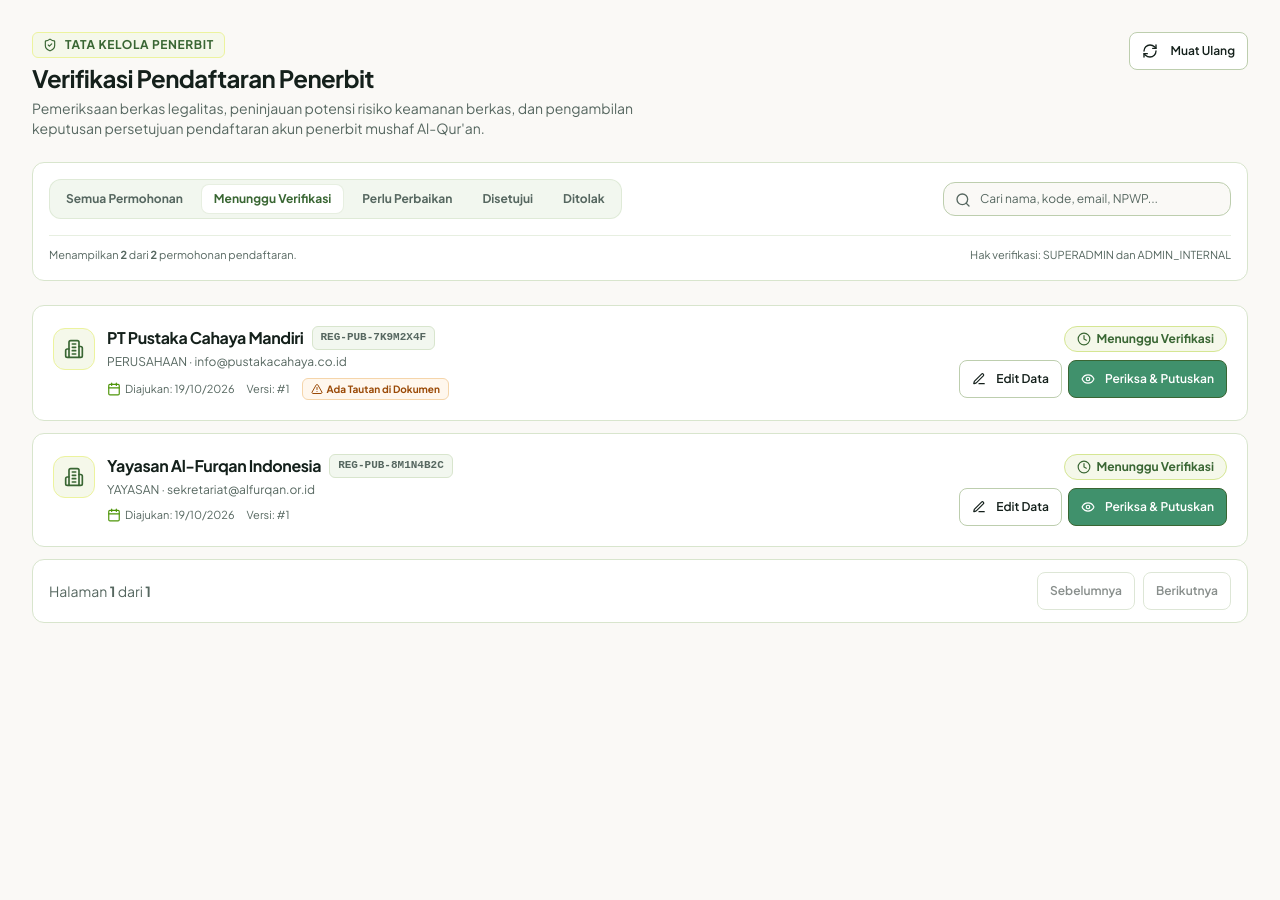
PublisherVerificationPage (T-S03 Verifikasi Penerbit Admin) › handles VERSION_CONFLICT (409) gracefully without throwing
What coordinates should you click on to do the following:
click the button "Periksa & Putuskan" in the row of "Ada Tautan di Dokumen"
I would click on:
 (1147, 379)
Its box is [1068,360,1227,398].
(page scrolled)
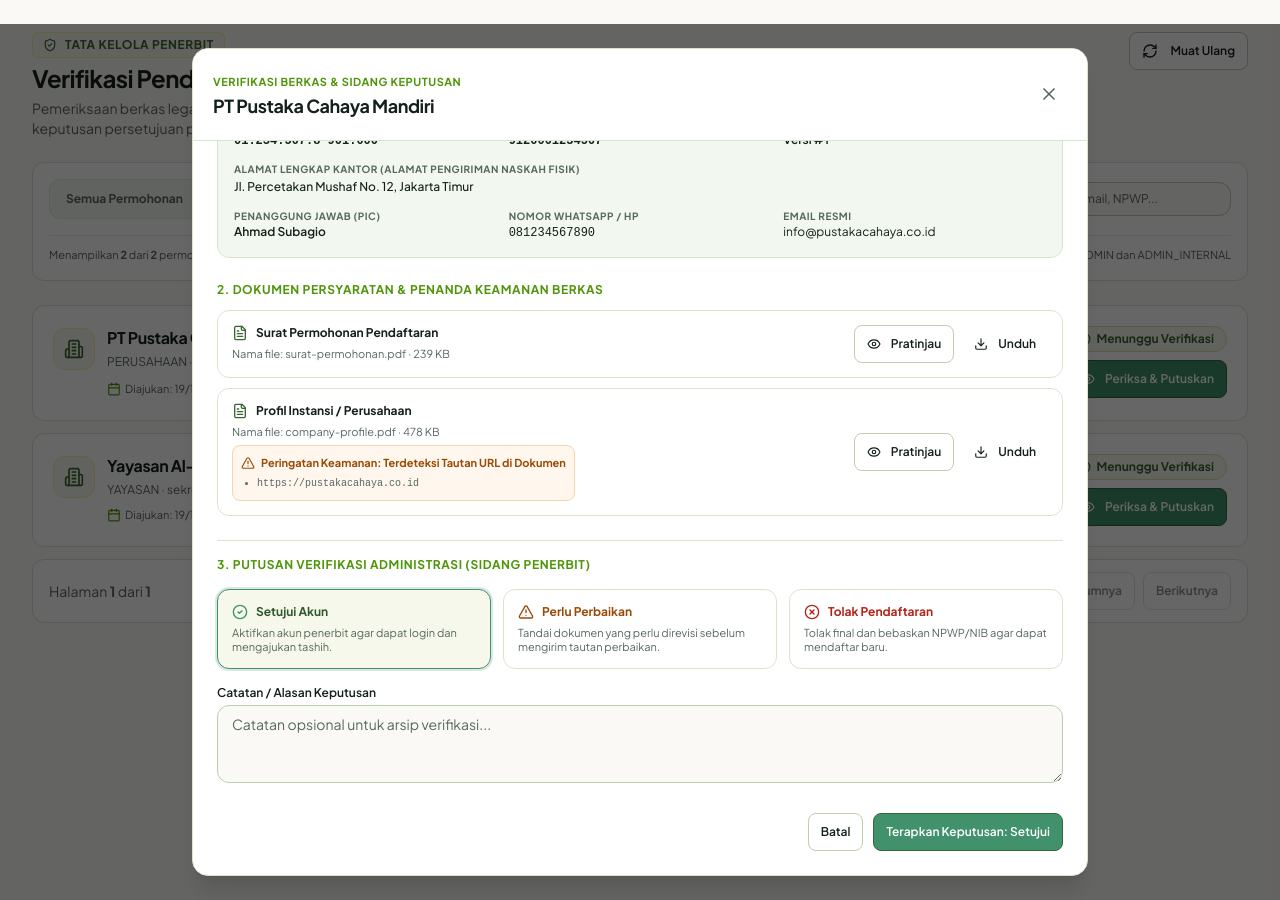
expect the button "Terapkan Keputusan: Setujui" is shown: met
What coordinates should you click on to do the following:
click the button "Terapkan Keputusan: Setujui"
I would click on:
 (968, 832)
Its box is [873,812,1063,850].
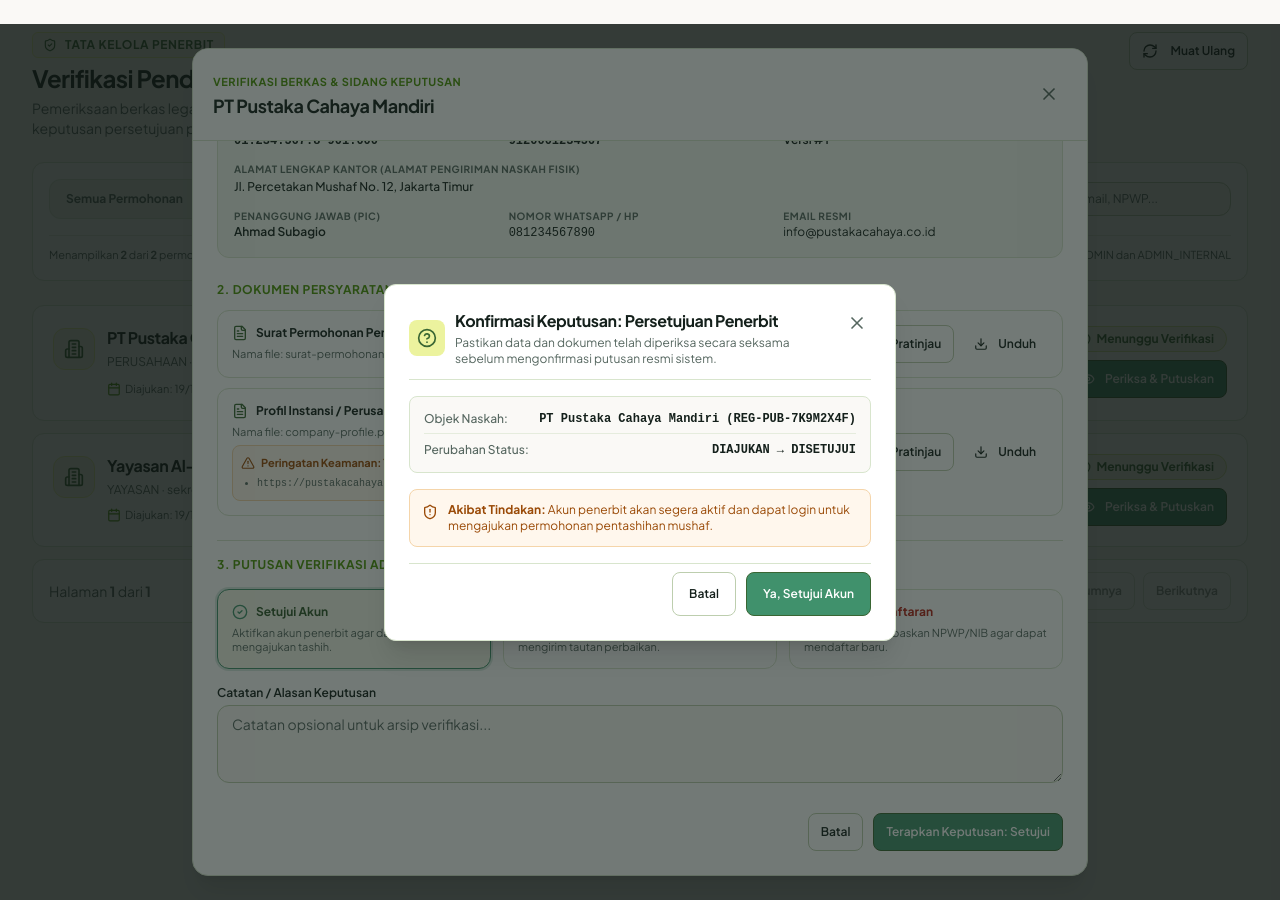
expect the button "Ya, Setujui Akun" is shown: met
What coordinates should you click on to do the following:
click the button "Ya, Setujui Akun"
I would click on:
 (808, 594)
Its box is [746,572,871,616].
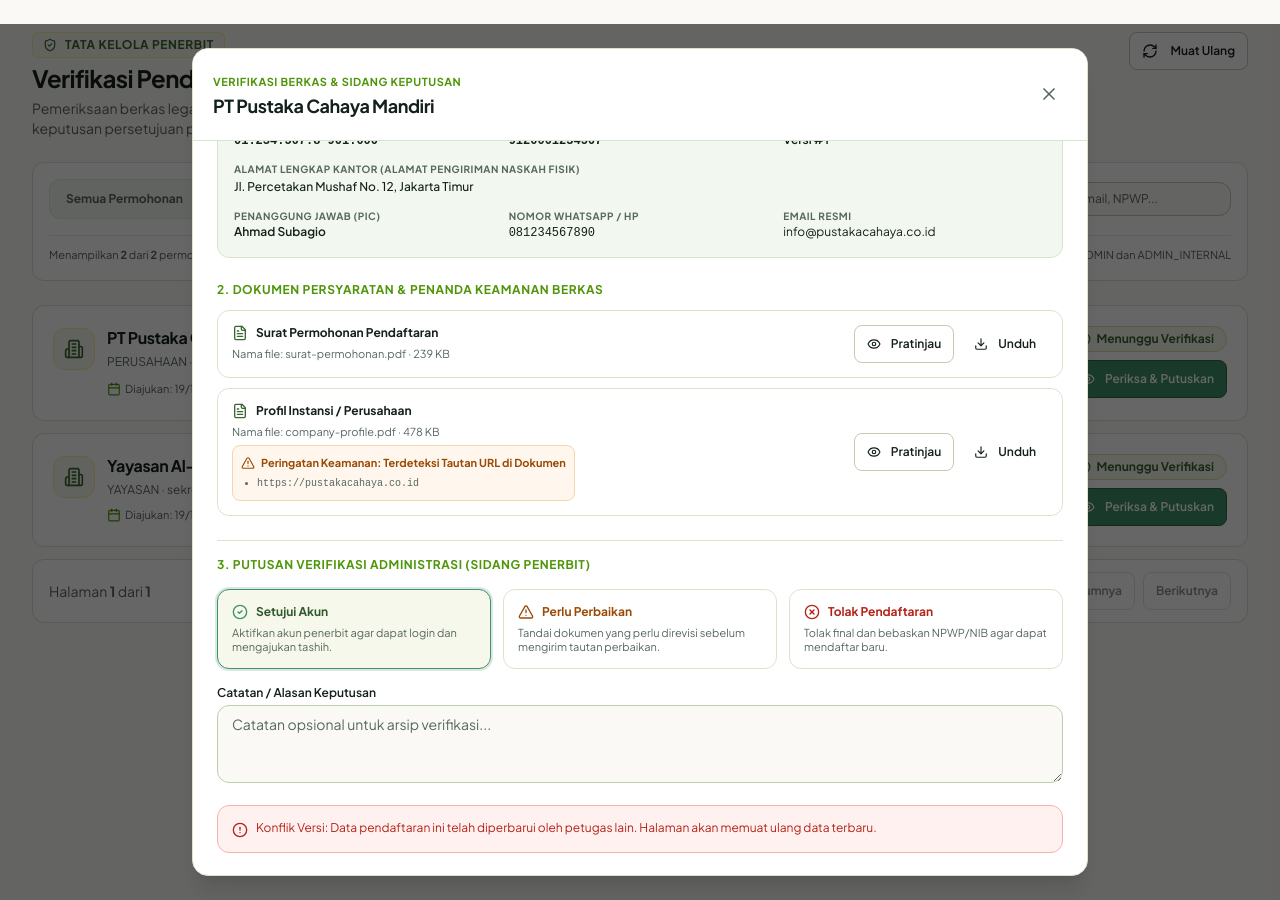
expect the text "Konflik Versi: Data pendaftaran ini telah diperbarui oleh petugas lain" is shown: met, box [256,820,877,834]
